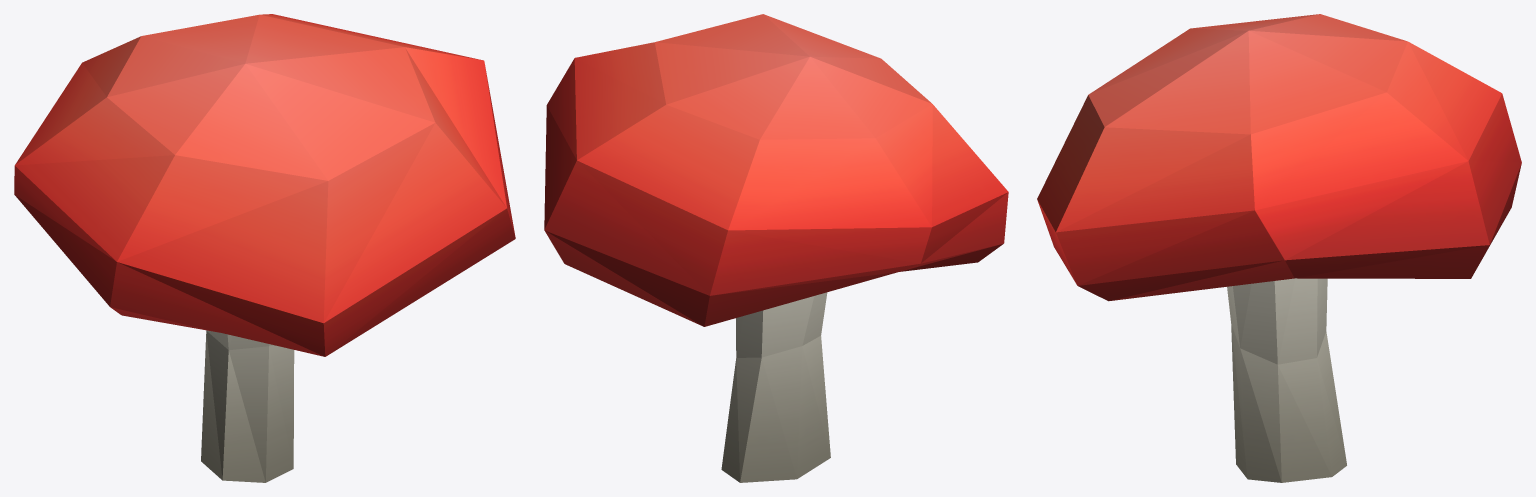
The model's file is MushroomRed-01.FBX.
The picture shows the model from 3 angles, left to right: view 1: azimuth 30°, elevation 25°; view 2: azimuth 150°, elevation 25°; view 3: azimuth 270°, elevation 25°; orthographic projection. The views are drawn at different scales.
Visible parts, largest first — view 1: MushroomRed-01; view 2: MushroomRed-01; view 3: MushroomRed-01.
Part boxes in pixels (x1,y1,x2,y2): MushroomRed-01: [14, 14, 515, 482]; MushroomRed-01: [544, 14, 1008, 482]; MushroomRed-01: [1037, 14, 1521, 482].
Size of the model in its own units: 52.08 by 47.81 by 49.26.
Materials: 1 (1 with a texture image).
